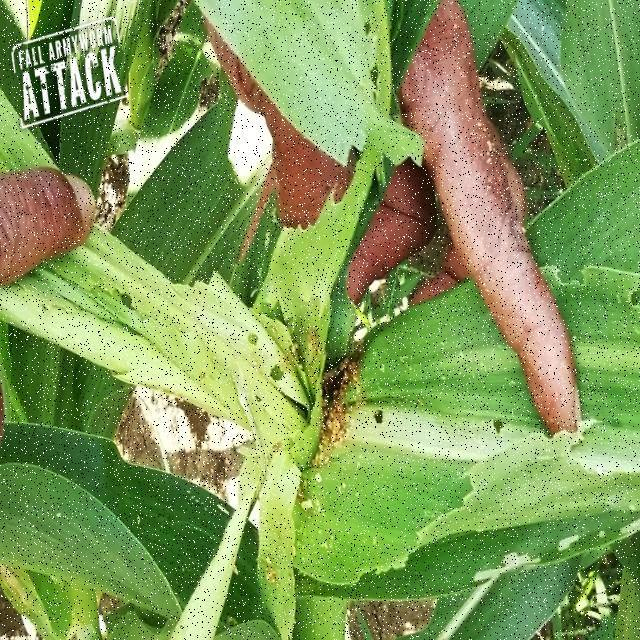army worm: (274, 308, 372, 503)
